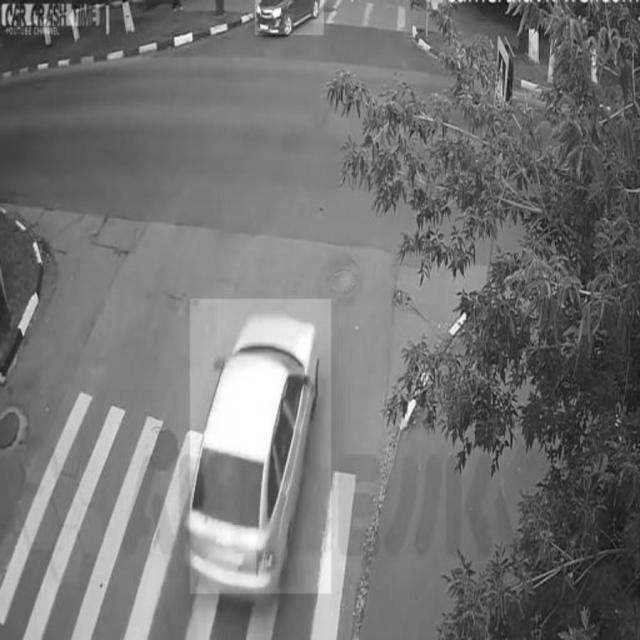vehicle: (191, 299, 332, 593), (255, 1, 323, 36)
